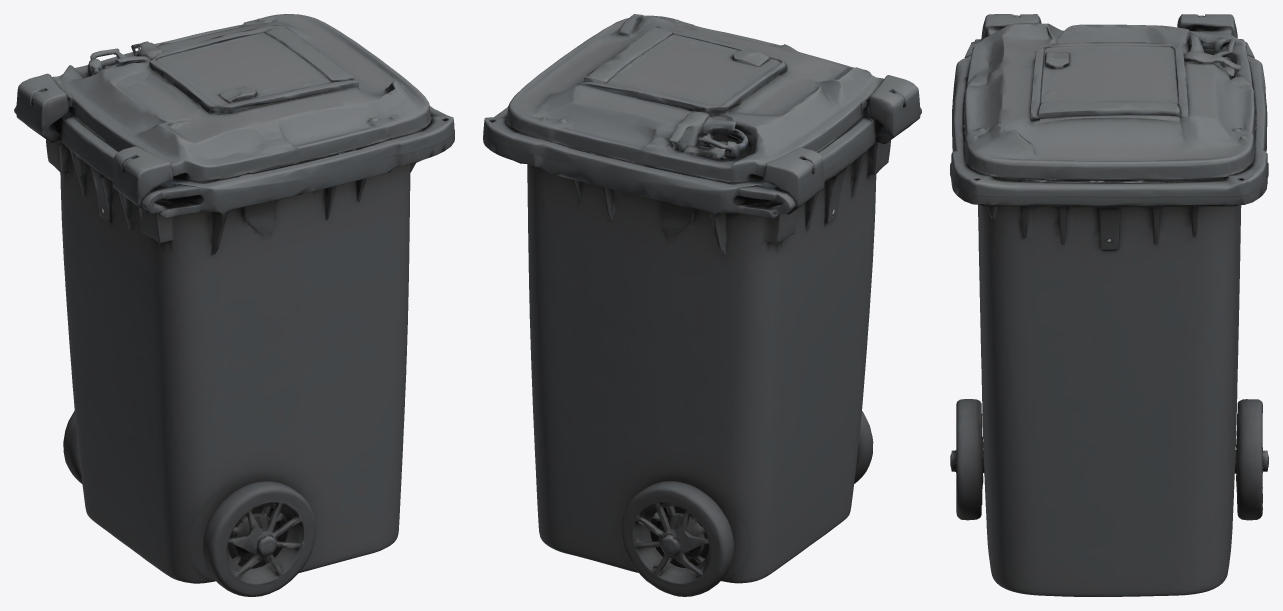
File: trash-bin-outdoor.glb
3 views of the same model, side by side, from view 1: azimuth 30°, elevation 25°; view 2: azimuth 150°, elevation 25°; view 3: azimuth 270°, elevation 25° (orthographic).
Visible parts, largest first — view 1: tripo_node_cd7e7804-b84a-4ae5-90de-feb8b363e951; view 2: tripo_node_cd7e7804-b84a-4ae5-90de-feb8b363e951; view 3: tripo_node_cd7e7804-b84a-4ae5-90de-feb8b363e951.
Boxes of the visible parts, bbox=[...] form: tripo_node_cd7e7804-b84a-4ae5-90de-feb8b363e951: bbox=[14, 14, 454, 596]; tripo_node_cd7e7804-b84a-4ae5-90de-feb8b363e951: bbox=[483, 14, 921, 596]; tripo_node_cd7e7804-b84a-4ae5-90de-feb8b363e951: bbox=[950, 14, 1268, 596].
Size of the model in its own units: 0.6097 by 0.86 by 0.5289.
Materials: 1 (1 with a texture image).
